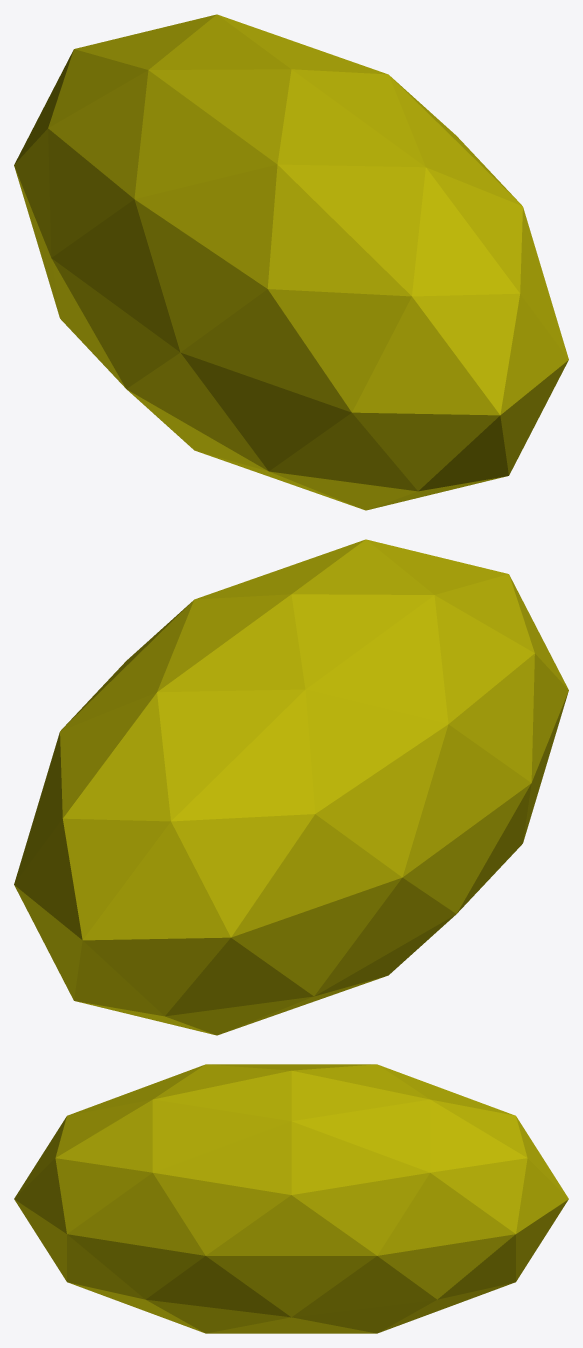
File: LimonBase.fbx
The picture shows the model from 3 angles, top to bottom: view 1: azimuth 30°, elevation 25°; view 2: azimuth 150°, elevation 25°; view 3: azimuth 270°, elevation 25°; orthographic projection. The views are drawn at different scales.
Visible parts, largest first — view 1: Icosphere; view 2: Icosphere; view 3: Icosphere.
Boxes of the visible parts, x1,y1,x2,y2 form: Icosphere: [14, 14, 568, 510]; Icosphere: [14, 539, 568, 1035]; Icosphere: [14, 1064, 568, 1333].
Size of the model in its own units: 190 by 200 by 392.
